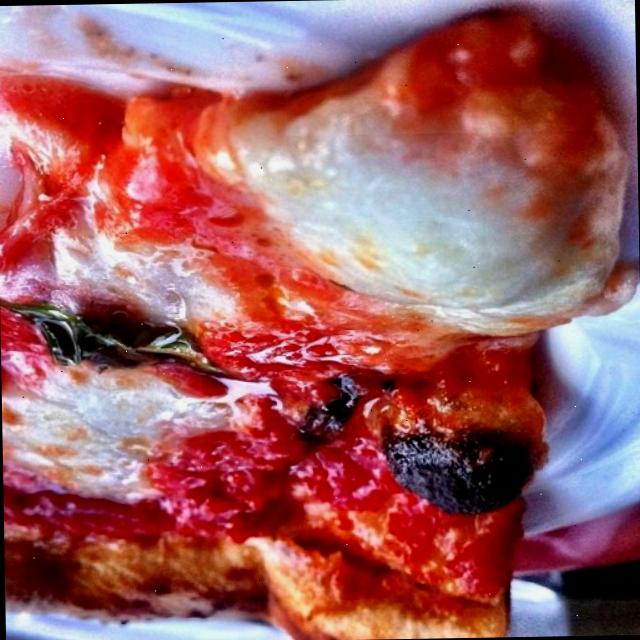basil: (13, 293, 204, 375)
cheese: (286, 130, 607, 309), (10, 374, 196, 482), (72, 240, 210, 305)
pizza: (0, 16, 635, 640)
